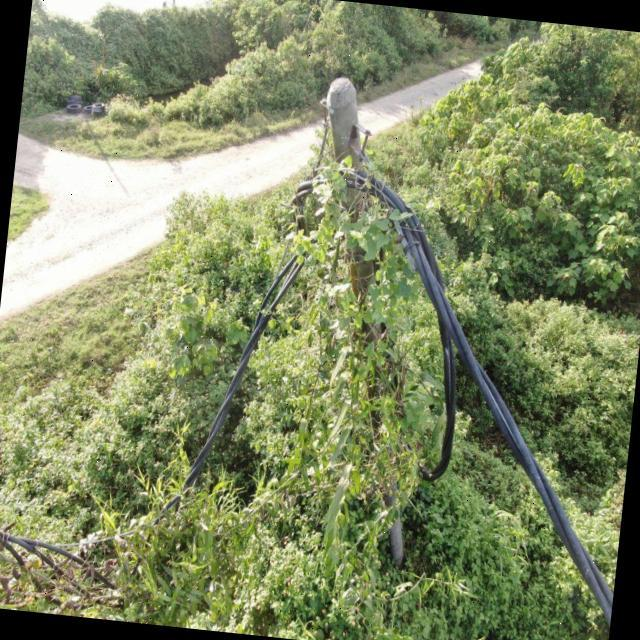critical vegetation: (262, 134, 459, 492)
